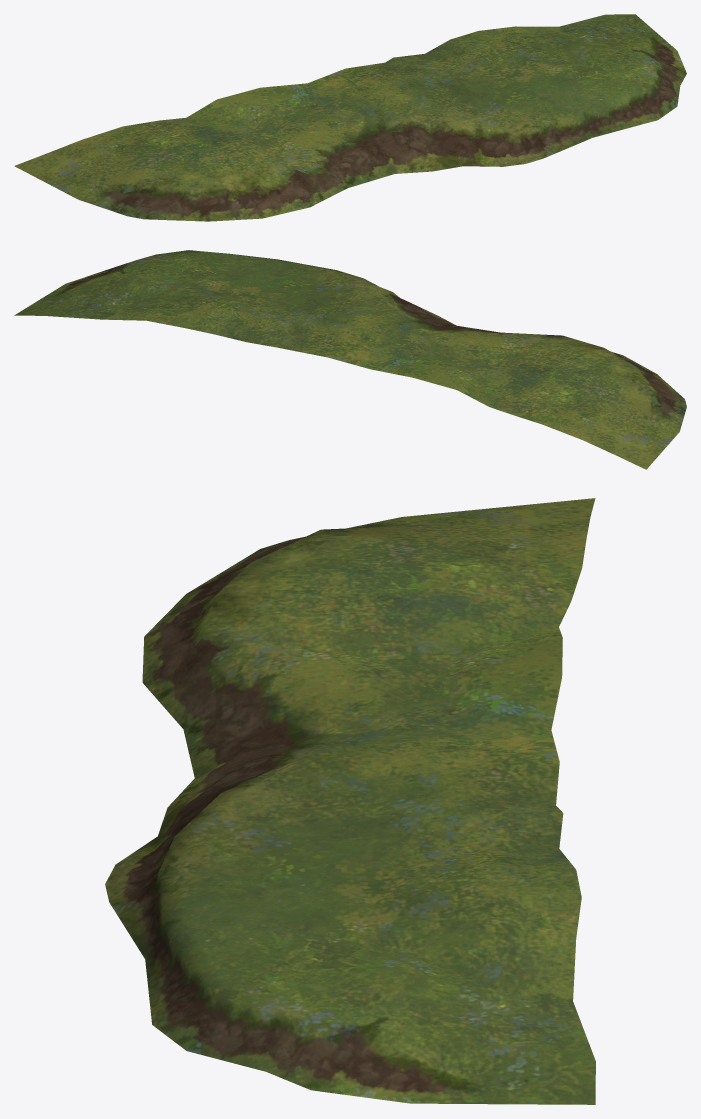
File: Cliff_Small.fbx
3 views of the same model, one above another, from view 1: azimuth 30°, elevation 25°; view 2: azimuth 150°, elevation 25°; view 3: azimuth 270°, elevation 25° (orthographic). The views are drawn at different scales.
Visible parts, largest first — view 1: SM_d_109_SmallCliff_01a; view 2: SM_d_109_SmallCliff_01a; view 3: SM_d_109_SmallCliff_01a.
Part boxes in pixels (x1=…): SM_d_109_SmallCliff_01a: x1=14, y1=14, x2=686, y2=221; SM_d_109_SmallCliff_01a: x1=14, y1=250, x2=686, y2=469; SM_d_109_SmallCliff_01a: x1=105, y1=498, x2=595, y2=1104.
Size of the model in its own units: 800 by 39.64 by 274.
